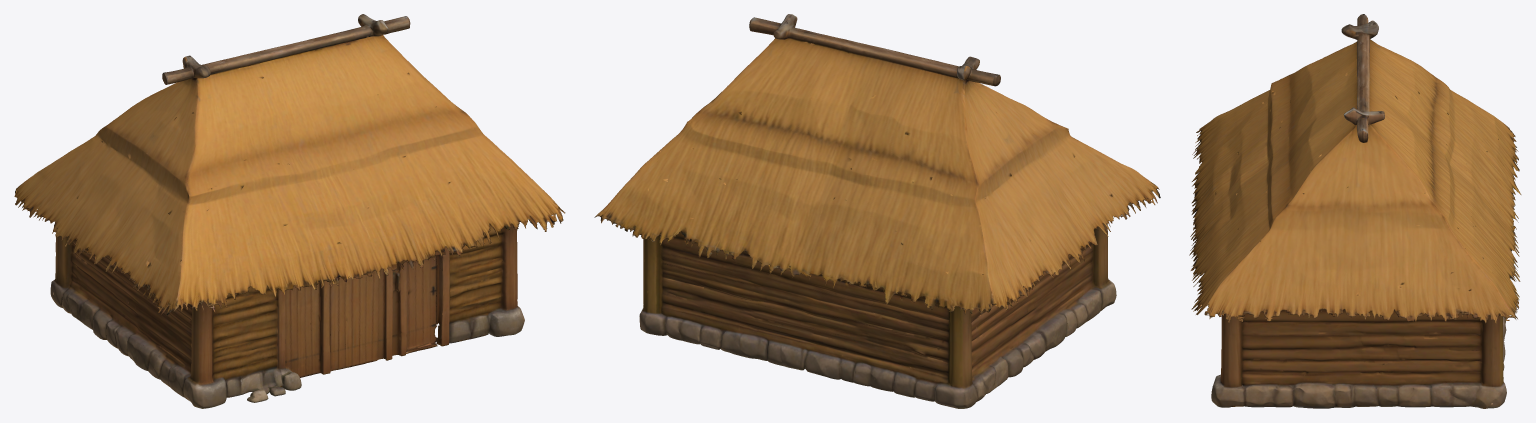
The model's file is Thatch_Cottage_0722213151_texture.fbx.
The picture shows the model from 3 angles, left to right: view 1: azimuth 30°, elevation 25°; view 2: azimuth 150°, elevation 25°; view 3: azimuth 270°, elevation 25°; orthographic projection. The views are drawn at different scales.
Parts seen in each view (by area): view 1: Mesh_0; view 2: Mesh_0; view 3: Mesh_0.
Boxes of the visible parts, x1,y1,x2,y2 form: Mesh_0: (14,14,565,408); Mesh_0: (594,14,1160,408); Mesh_0: (1189,14,1521,408).
Size of the model in its own units: 196 by 126 by 142.
1 material, 1 textured.
